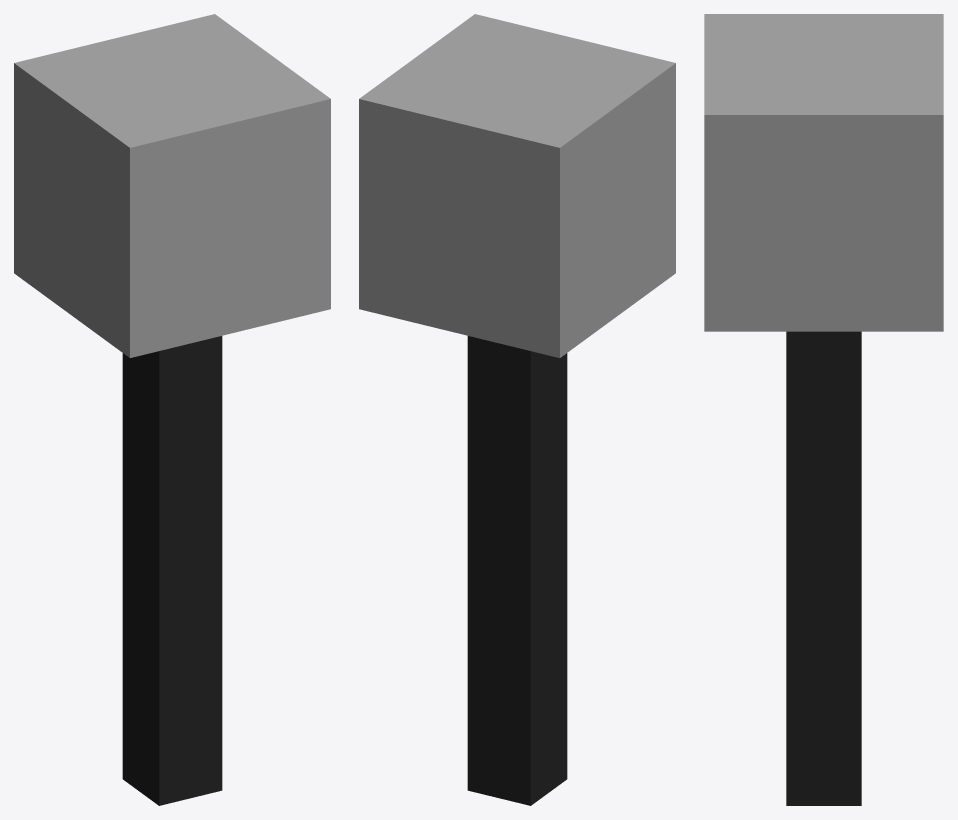
File: Light.fbx
3 views of the same model, side by side, from view 1: azimuth 30°, elevation 25°; view 2: azimuth 150°, elevation 25°; view 3: azimuth 270°, elevation 25° (orthographic). The views are drawn at different scales.
Parts seen in each view (by area): view 1: Light, Fence; view 2: Light, Fence; view 3: Light, Fence.
Part boxes in pixels (bbox=[...]): Light: bbox=[14, 14, 330, 357]; Fence: bbox=[122, 336, 222, 805]; Light: bbox=[359, 14, 675, 357]; Fence: bbox=[467, 336, 567, 805]; Light: bbox=[704, 14, 943, 331]; Fence: bbox=[786, 331, 861, 805].
Size of the model in its own units: 1 by 3.35 by 1.
